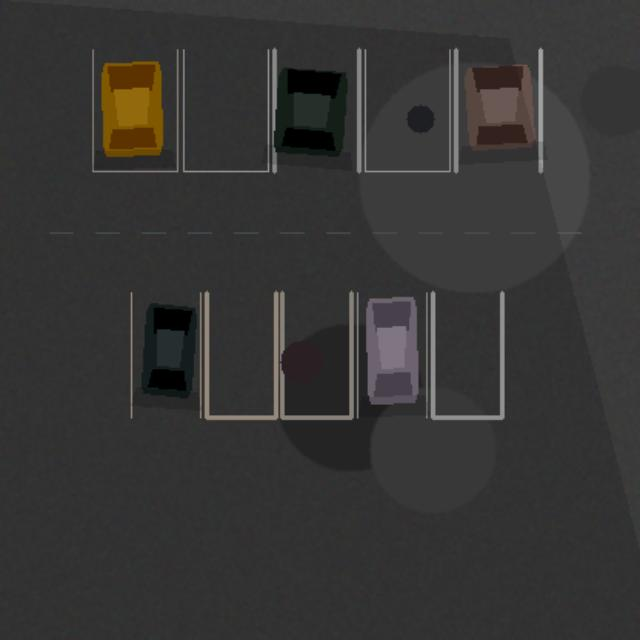space-empty: (183, 49, 268, 171), (365, 49, 449, 171), (432, 292, 502, 417), (206, 292, 275, 417), (282, 292, 351, 417)
space-occupied: (92, 49, 177, 171), (455, 49, 540, 171), (274, 49, 358, 171), (131, 292, 200, 417), (357, 292, 426, 417)
